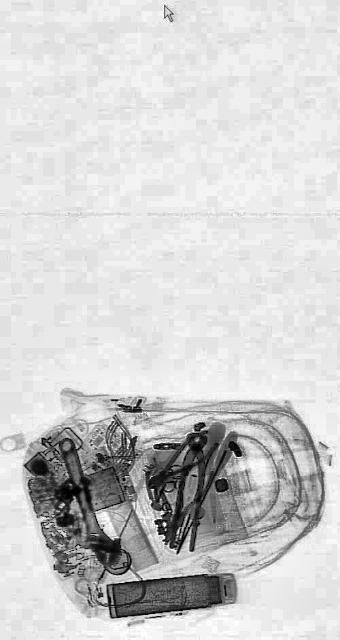Pliers: (166, 426, 212, 558), (145, 422, 213, 500)
Wrench: (48, 420, 124, 584)
